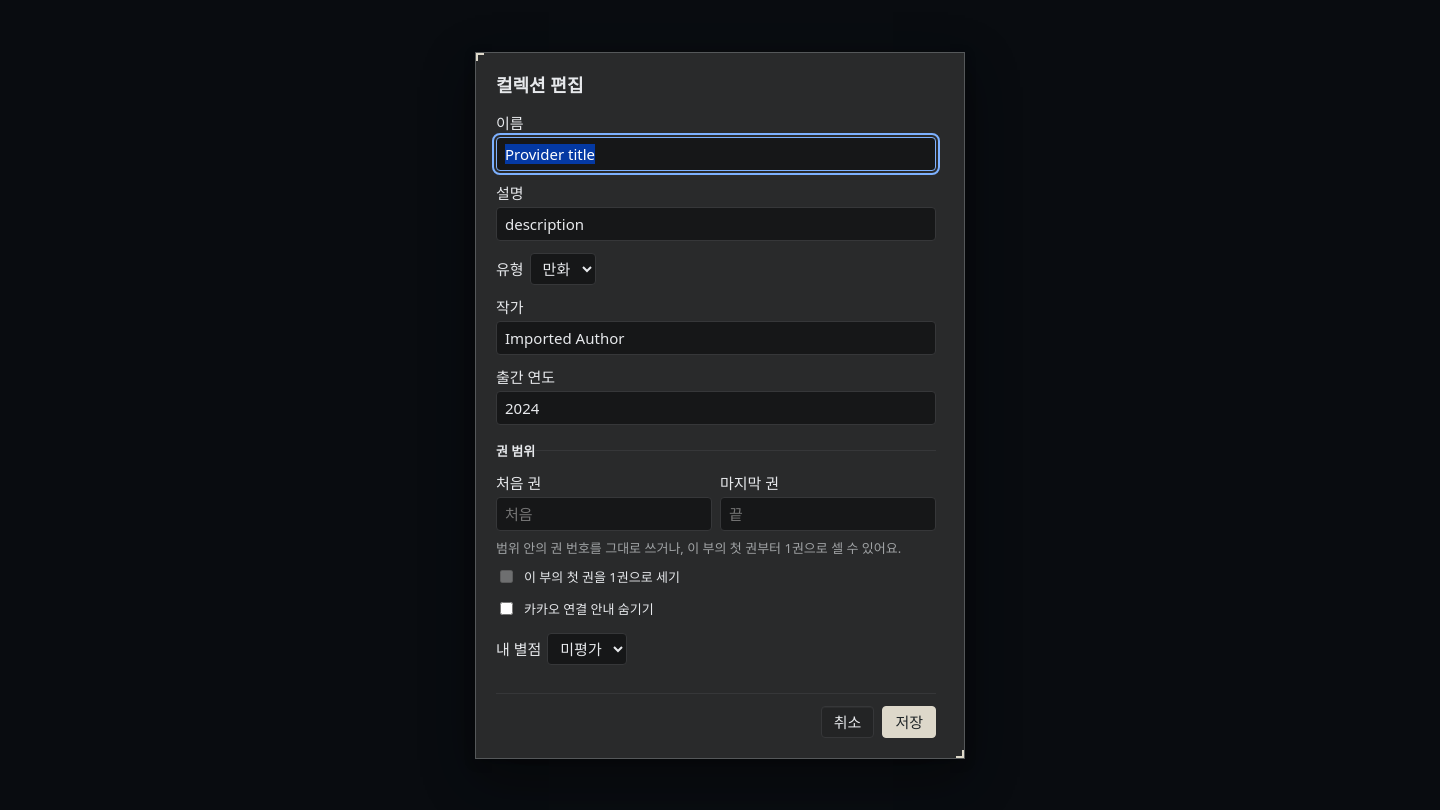
Test: shows the native trash-name conflict in the edit dialog and keeps the draft
Replace the text in the field labelled "이름" with "Reserved". click: (716, 154)
box: [496,136,936,170]
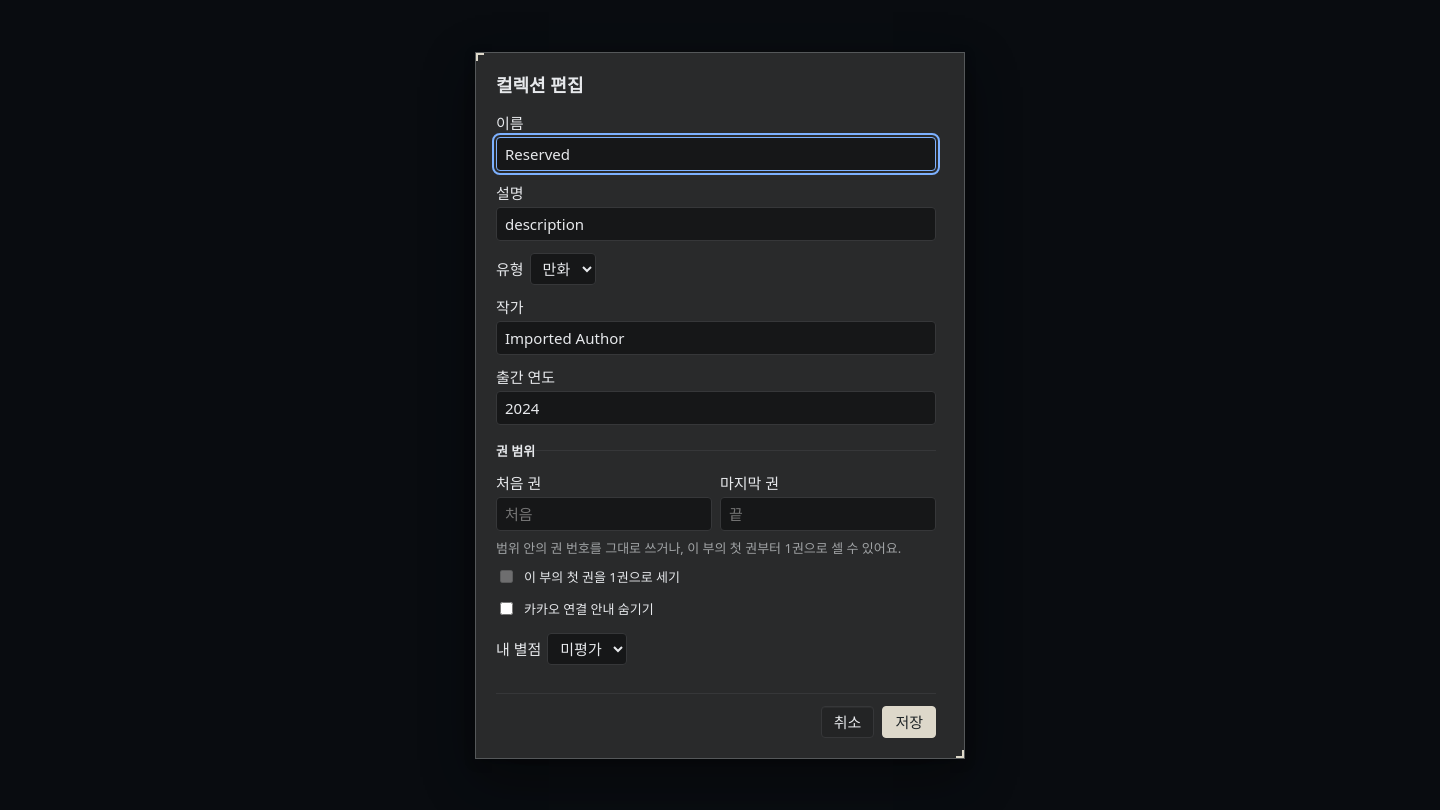
Click the button "저장". click: (909, 722)
box: [882,706,936,738]
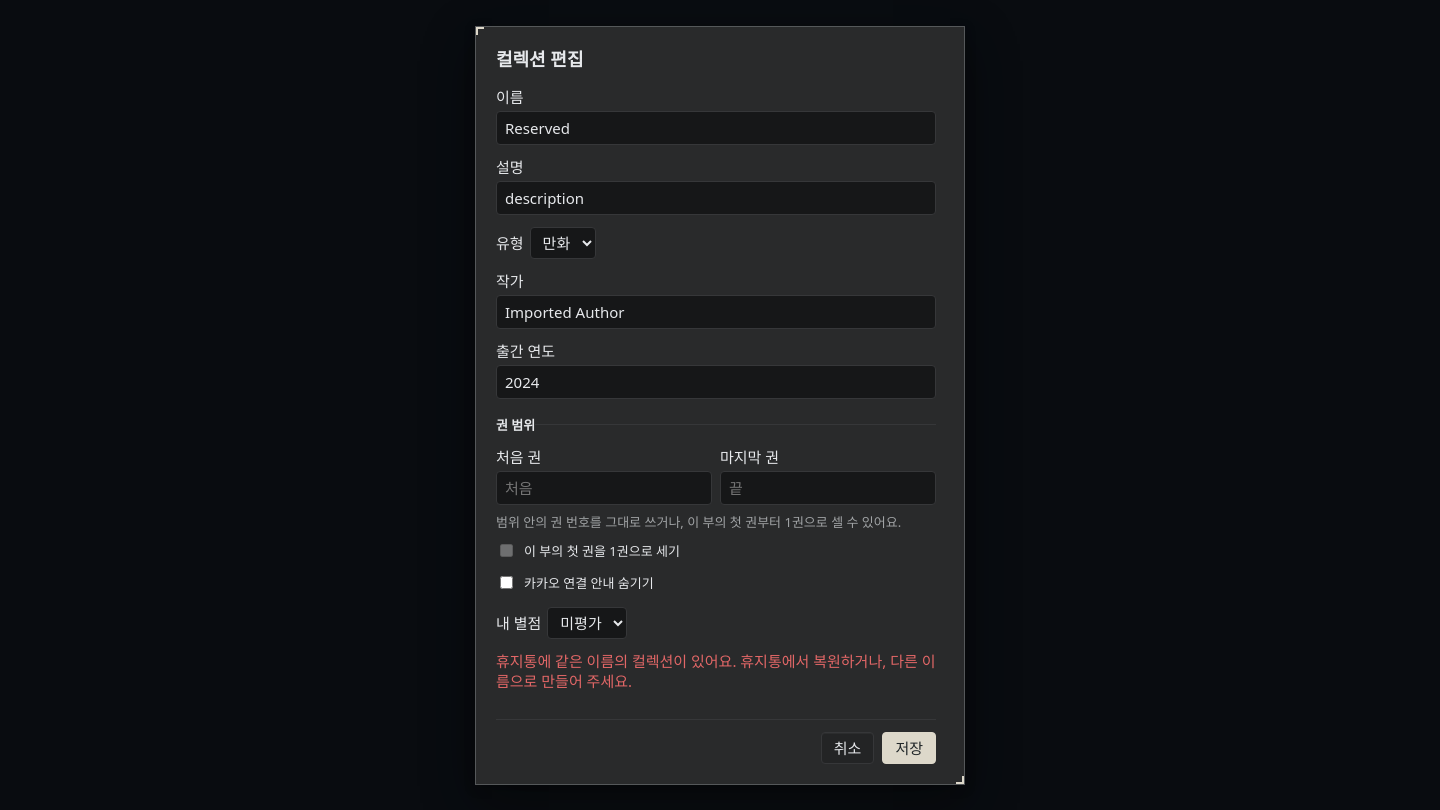
Check: the text "휴지통에 같은 이름의 컬렉션이 있어요. 휴지통에서 복원하거나, 다른 이름으로 만들어 주세요." is shown, box [496,650,936,690]
